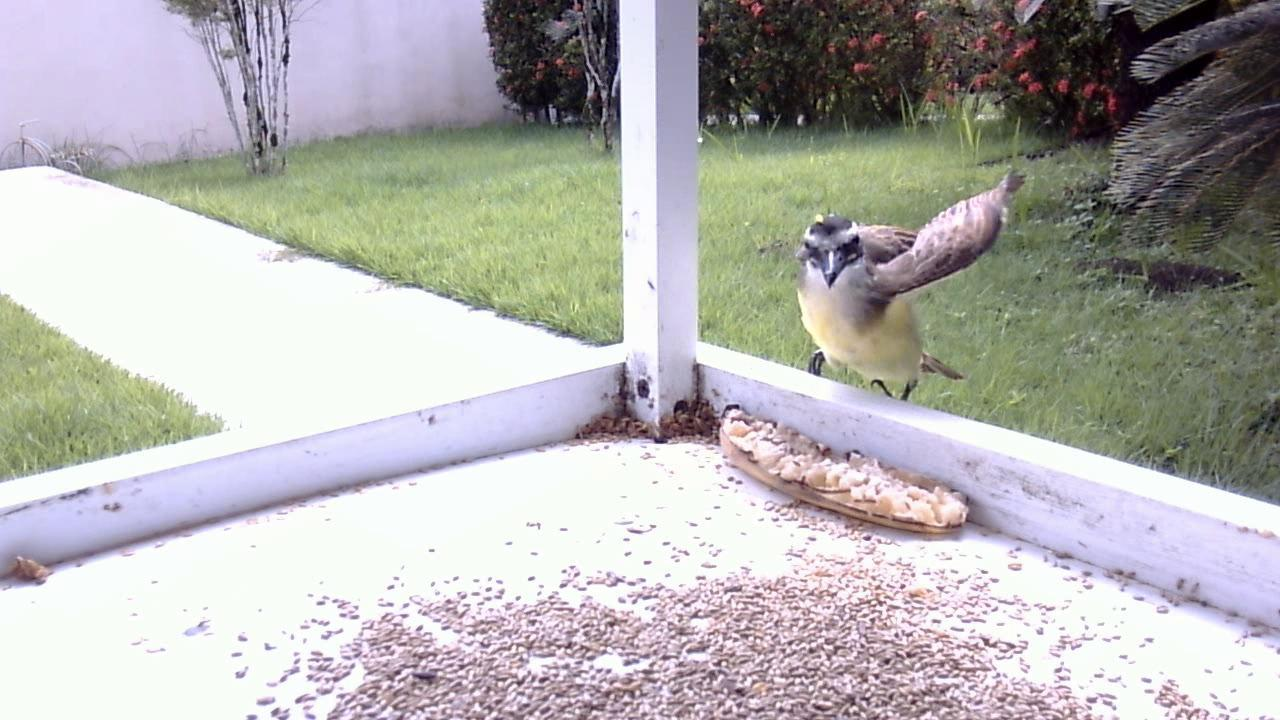bem_te_vi: (785, 165, 1025, 415)
